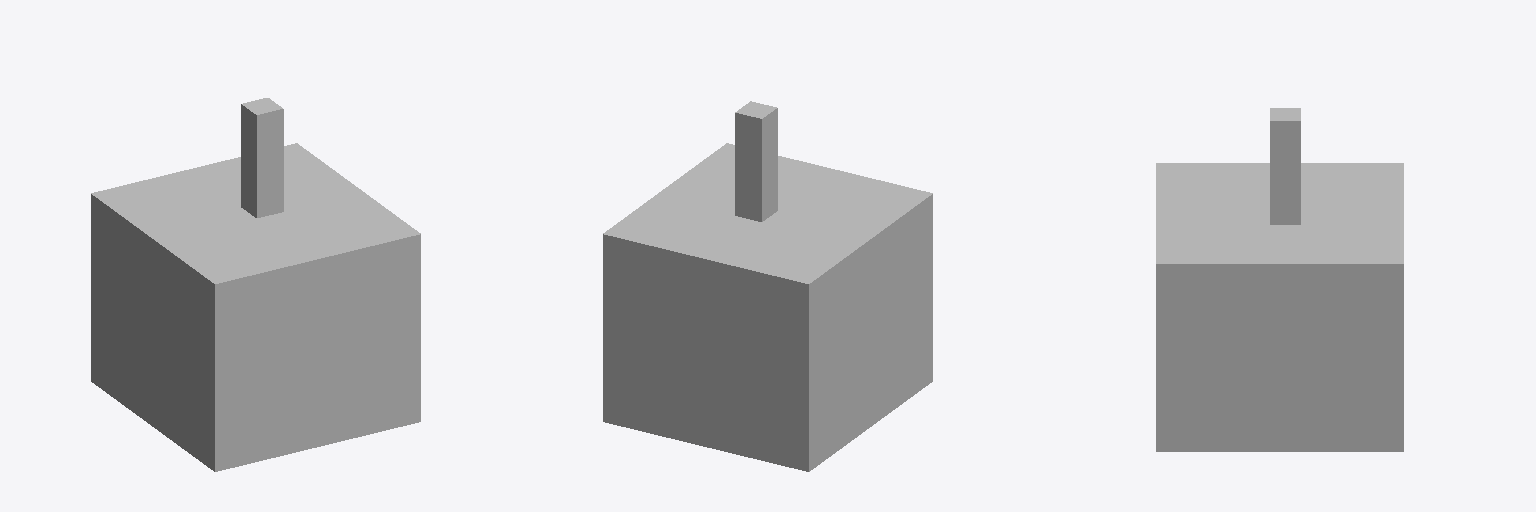
Rendered from Bomb.obj.
The picture shows the model from 3 angles: view 1: azimuth 30°, elevation 25°; view 2: azimuth 150°, elevation 25°; view 3: azimuth 270°, elevation 25°; orthographic projection.
Visible parts, largest first — view 1: object 1; view 2: object 1; view 3: object 1.
Boxes of the visible parts, <box> form: object 1: <box>91,98,420,471</box>; object 1: <box>603,101,932,471</box>; object 1: <box>1156,108,1403,451</box>.
Bounding box in the file's own units: 2.3 × 3.1 × 2.4.